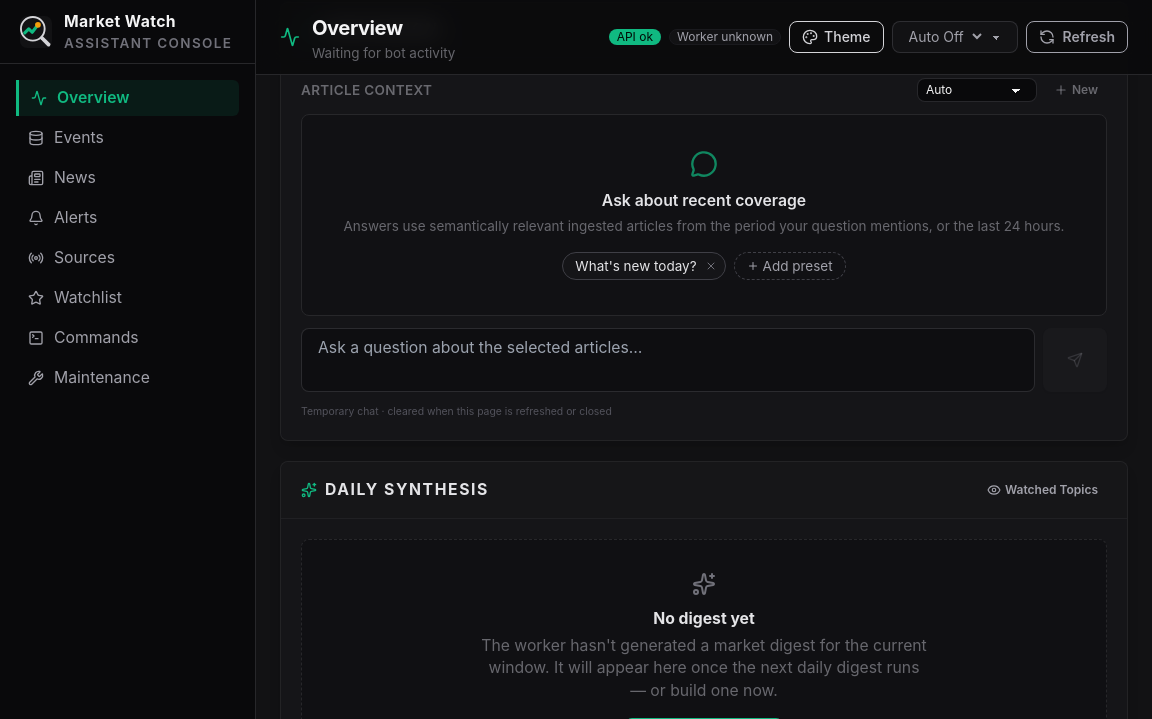
Test: App data states › shows the article window an auto-timeframe answer searched
(page scrolled)
Step 1. Type "Updates on oil price last week" into the text box named "Discussion message" → (668,360), box 301,328 -> 1035,392
(page scrolled)
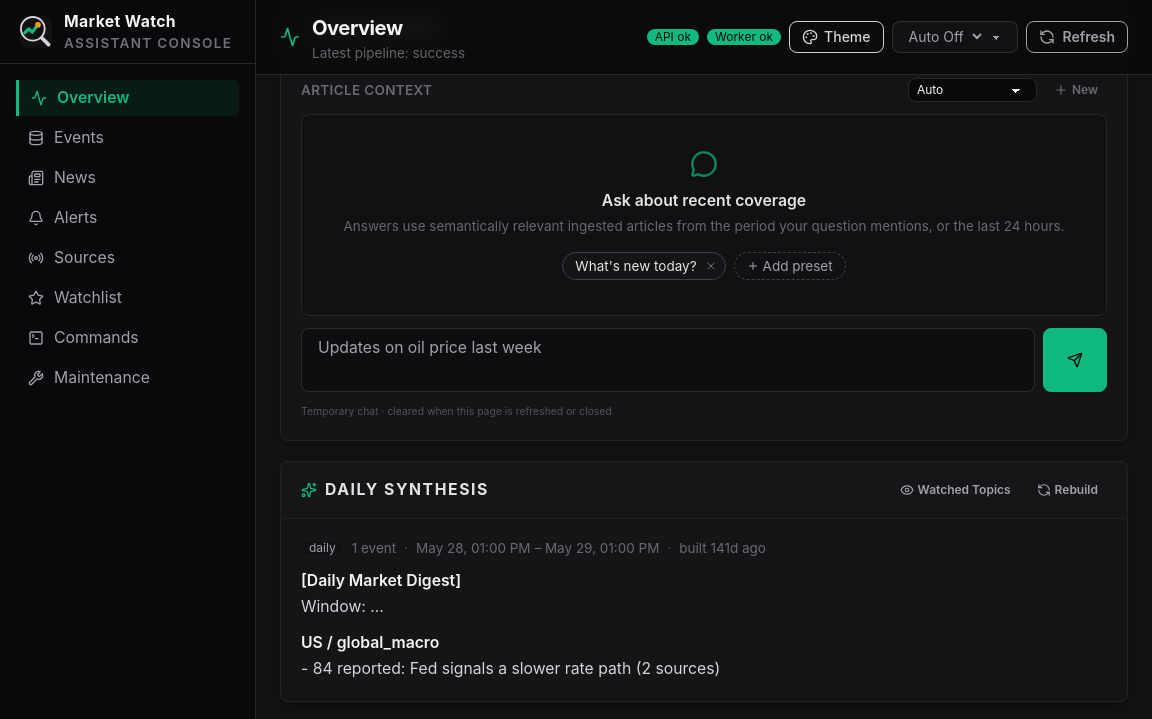
Step 2. Click the button named "Send discussion message" → (1075,360), box 1043,328 -> 1107,392
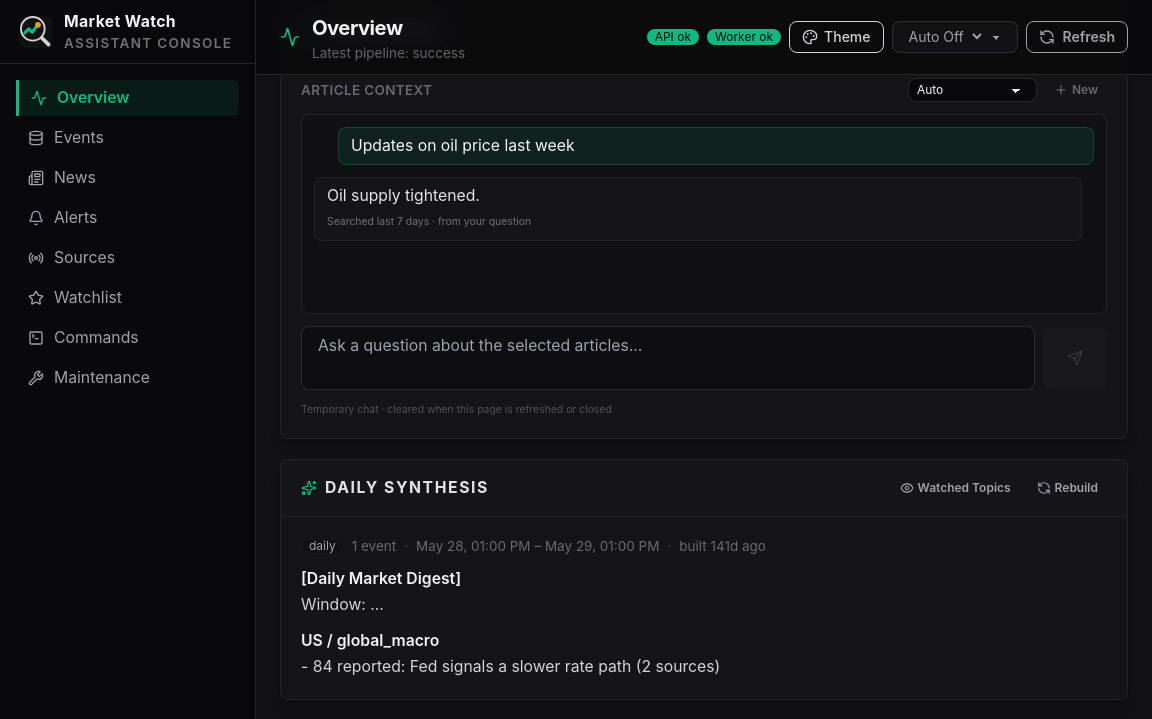
Expected: the text "Searched last 7 days · from your question" is shown, 327,215 -> 531,228
Step 3. Type "And the week before?" into the text box named "Discussion message" → (668,358), box 301,326 -> 1035,390
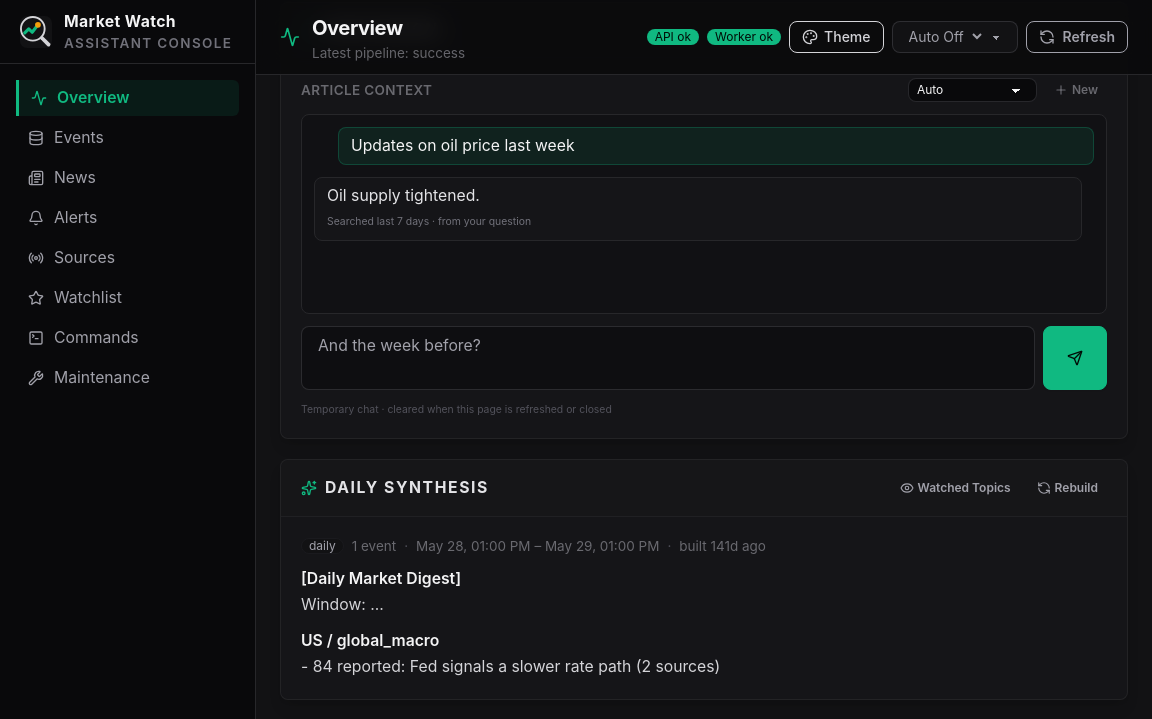
Step 4. Click the button named "Send discussion message" → (1075,358), box 1043,326 -> 1107,390
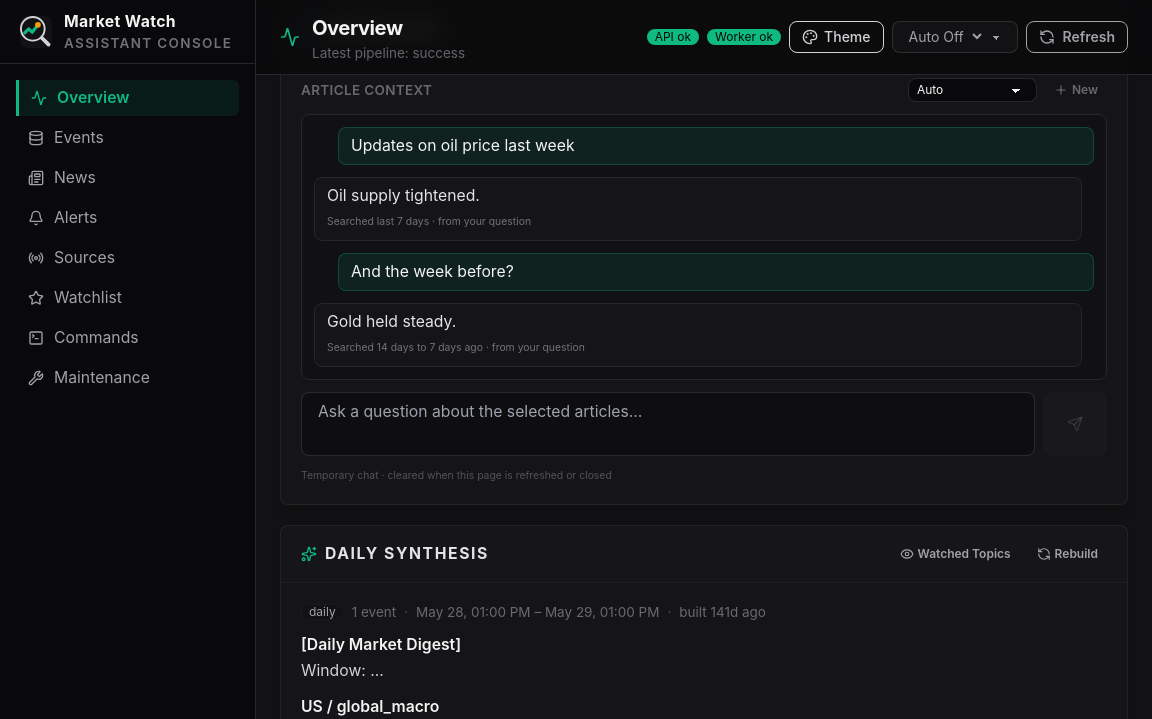
Expected: the text "Searched 14 days to 7 days ago · from your question" is shown, 327,341 -> 585,354
